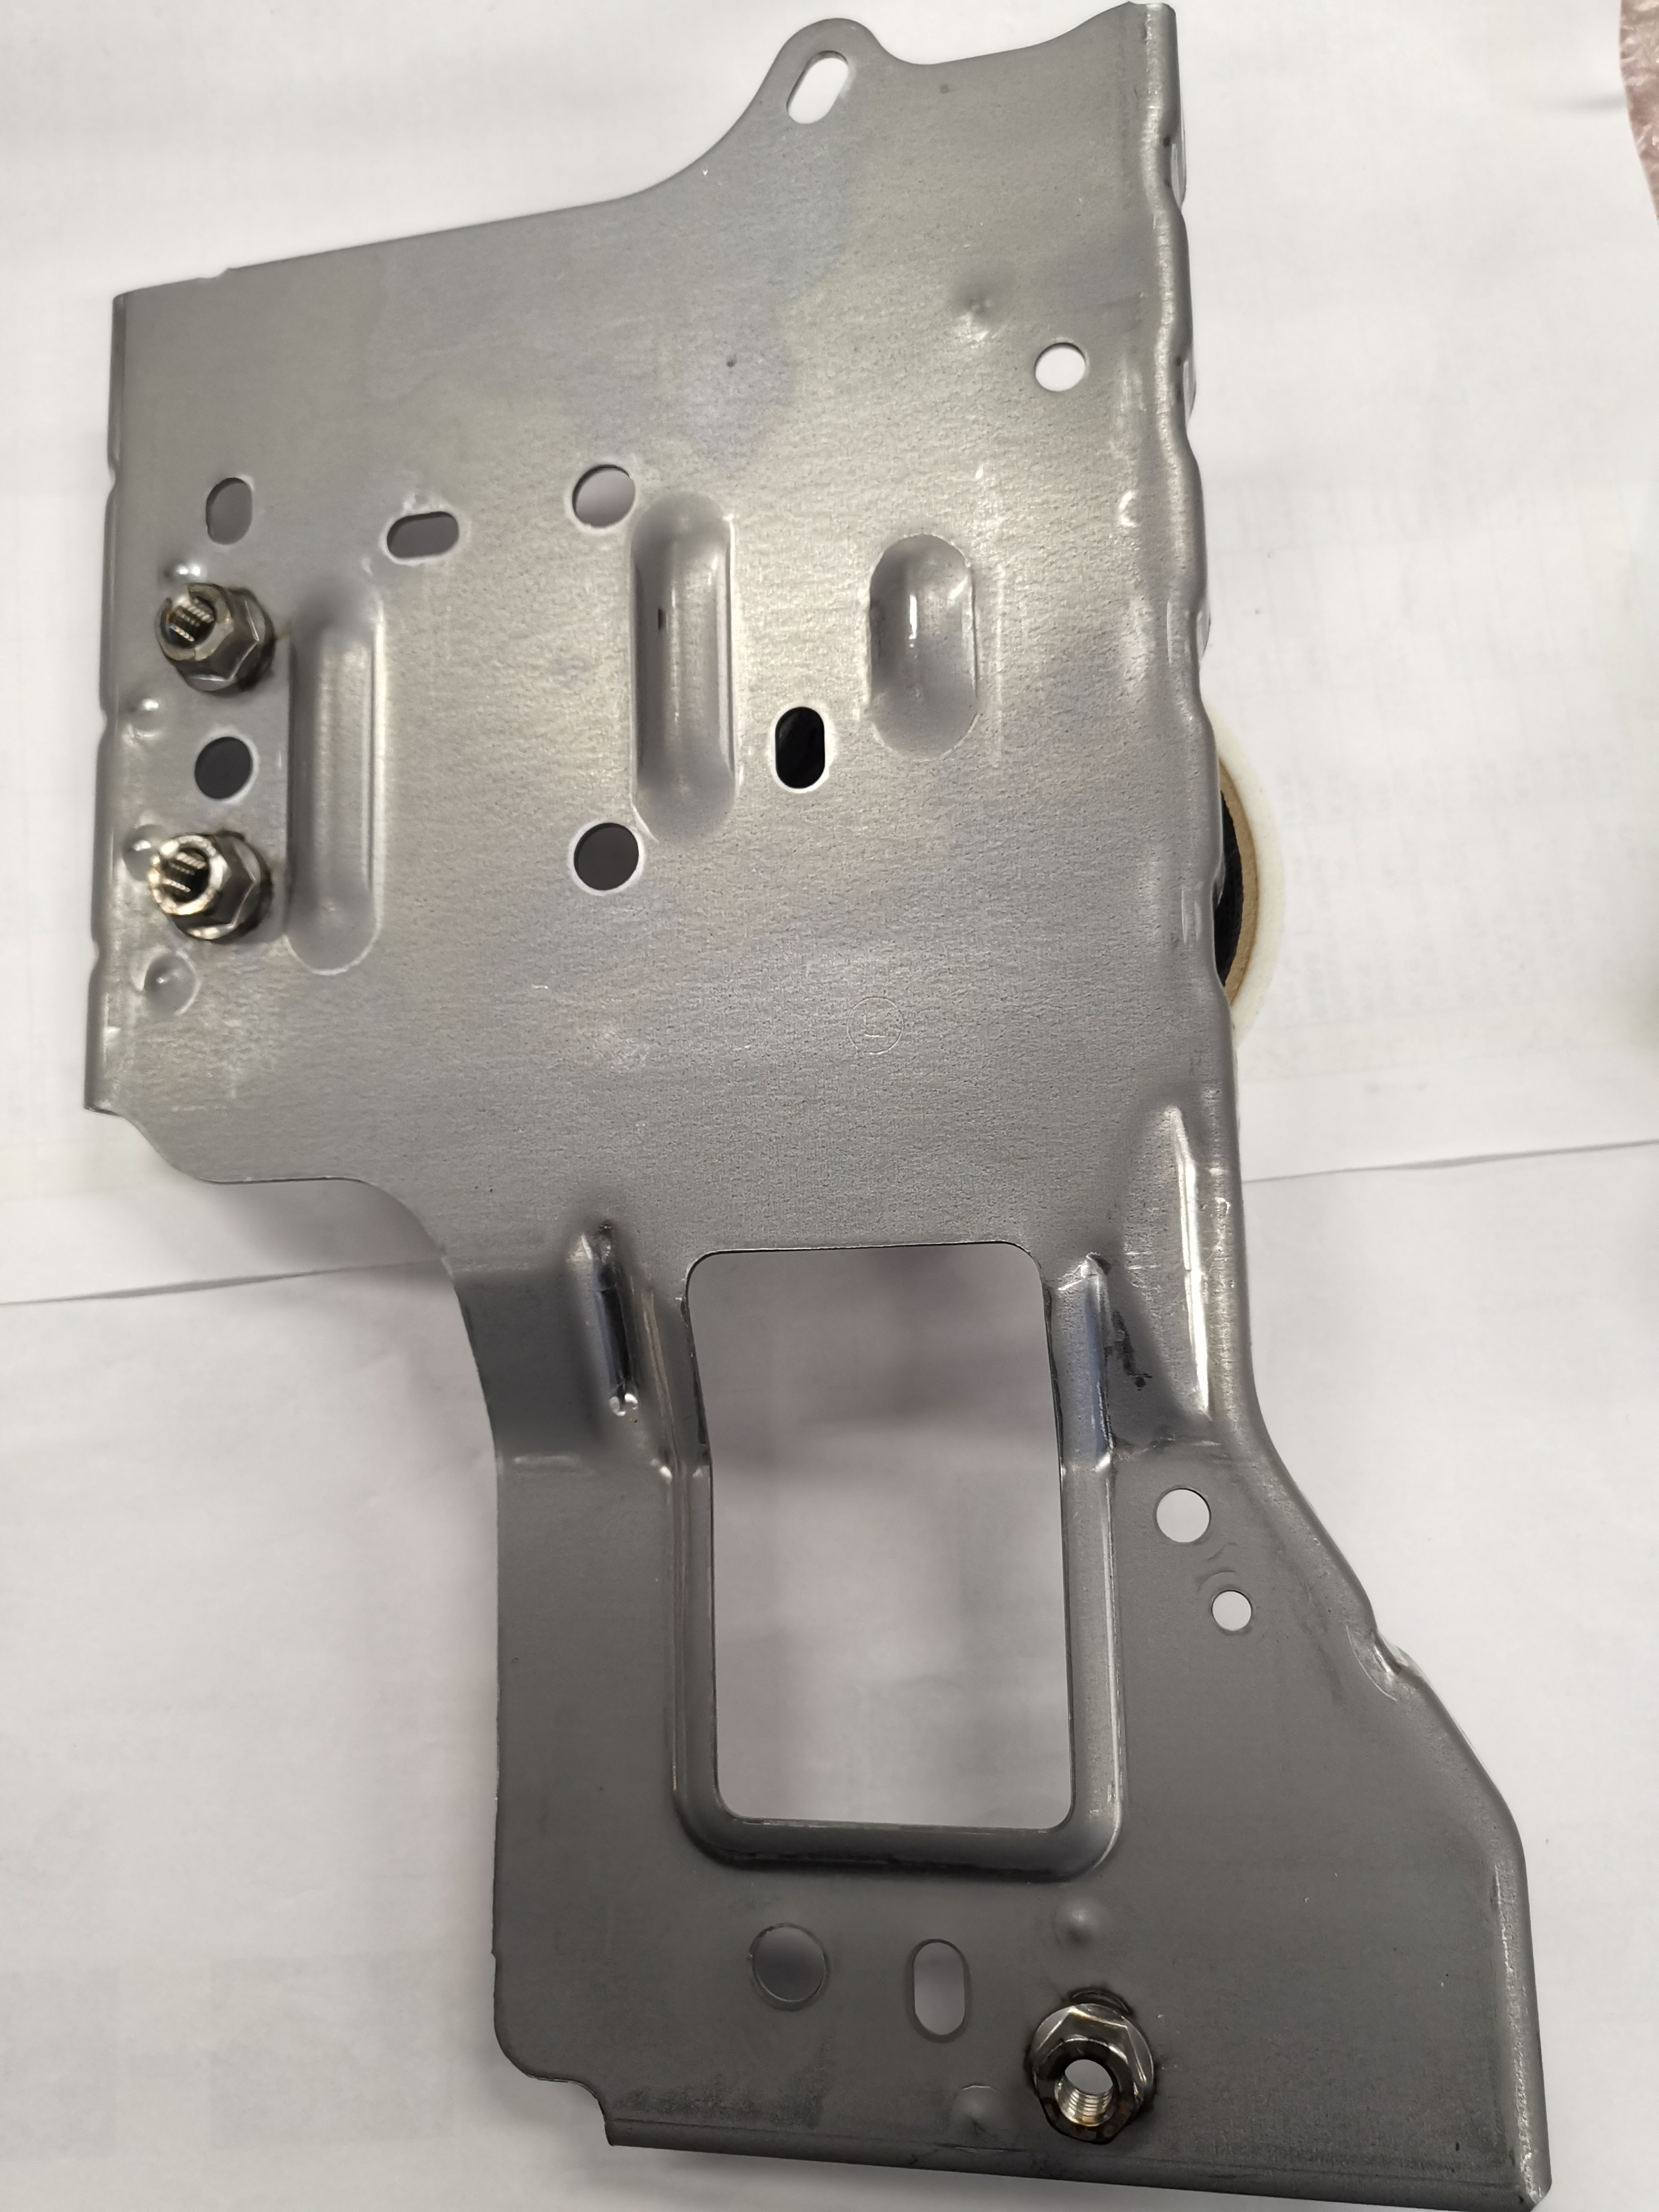dog: (1016, 1980, 1169, 2151), (143, 819, 277, 946), (152, 578, 282, 702)
